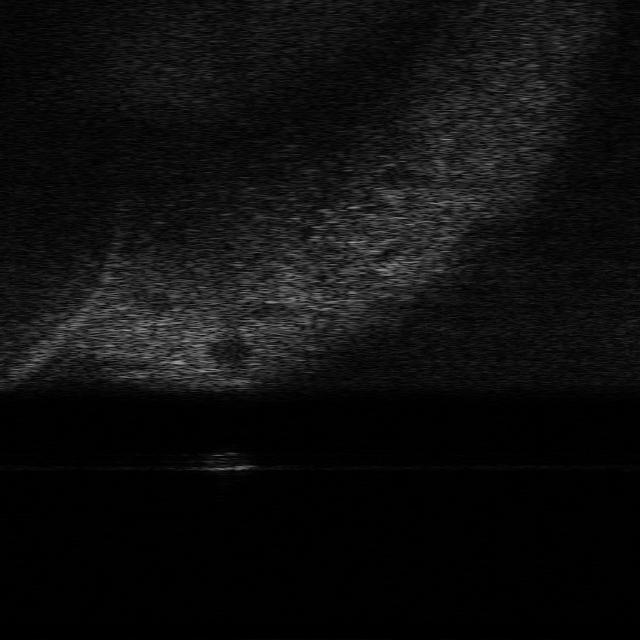cube: (200, 448, 251, 472)
